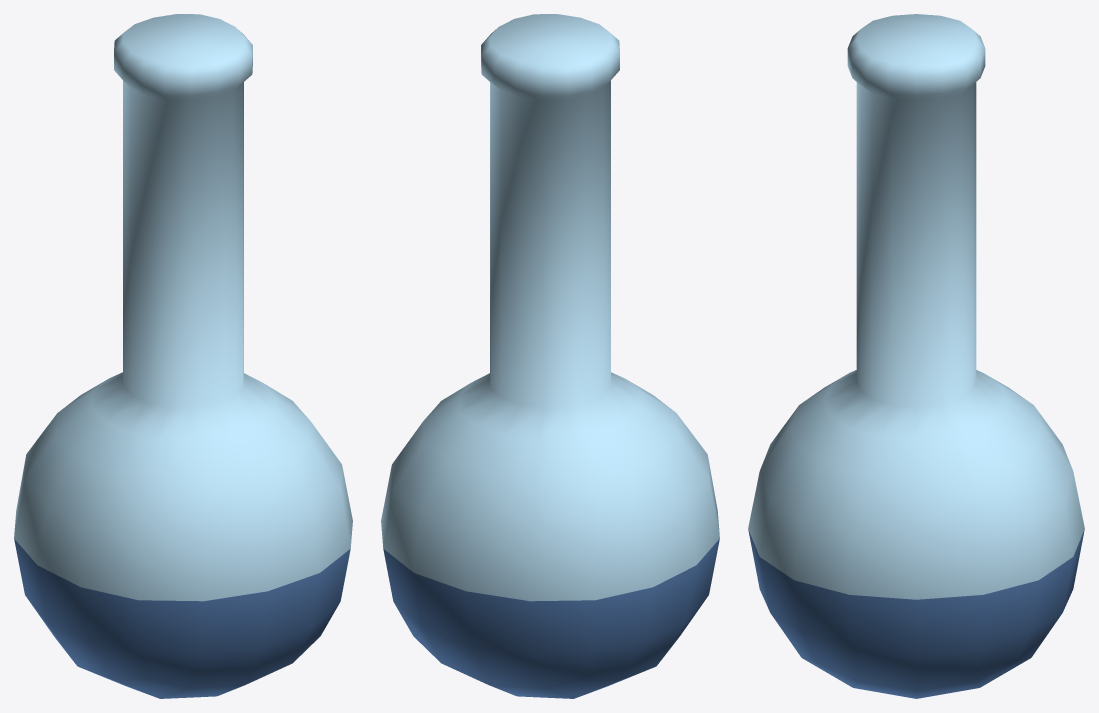
File: Blue KJELDAHL Flask .fbx
3 renders of one model, left to right at view 1: azimuth 30°, elevation 25°; view 2: azimuth 150°, elevation 25°; view 3: azimuth 270°, elevation 25°, orthographic.
Parts seen in each view (by area): view 1: Blue KJELDAHL Flask; view 2: Blue KJELDAHL Flask; view 3: Blue KJELDAHL Flask.
Boxes of the visible parts, left/top/right/bottom form: Blue KJELDAHL Flask: left=14, top=14, right=352, bottom=698; Blue KJELDAHL Flask: left=381, top=14, right=719, bottom=698; Blue KJELDAHL Flask: left=748, top=14, right=1084, bottom=698.
Size of the model in its own units: 13.44 by 28.27 by 13.44.
